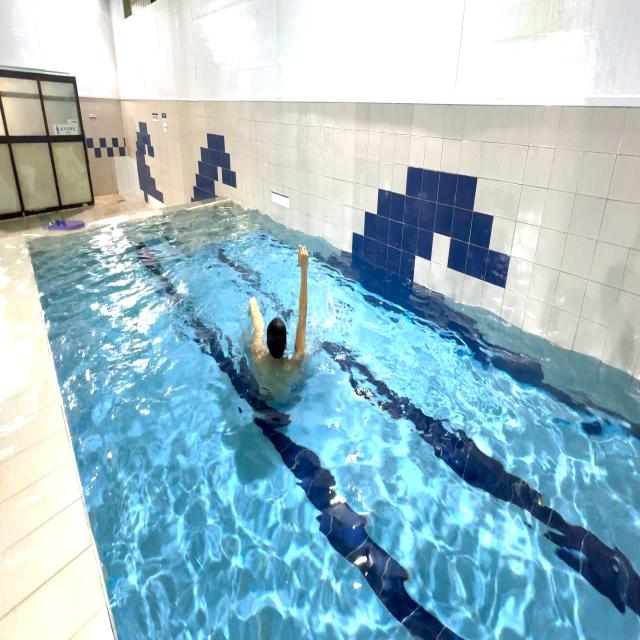Drowning: (234, 224, 318, 417)
